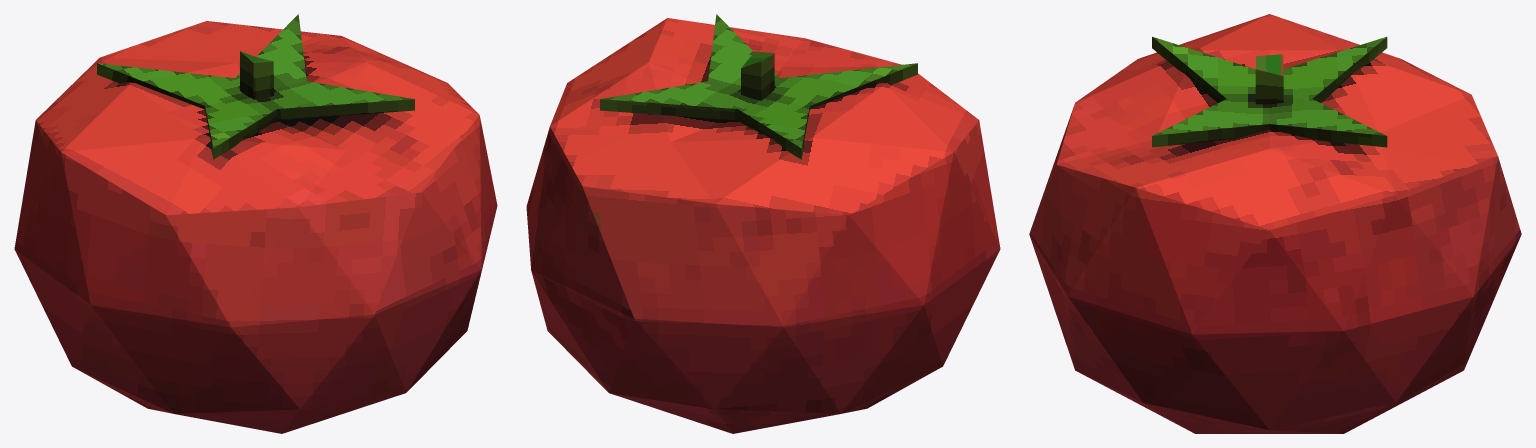
File: item_tomato.glb
The picture shows the model from 3 angles, left to right: view 1: azimuth 30°, elevation 25°; view 2: azimuth 150°, elevation 25°; view 3: azimuth 270°, elevation 25°; orthographic projection.
Parts seen in each view (by area): view 1: Icosphere; view 2: Icosphere; view 3: Icosphere.
Boxes of the visible parts, x1,y1,x2,y2 form: Icosphere: [14, 14, 497, 433]; Icosphere: [526, 14, 1000, 433]; Icosphere: [1029, 14, 1521, 433].
Bounding box in the file's own units: 0.2568 × 0.2048 × 0.2664.
1 material, 1 textured.
